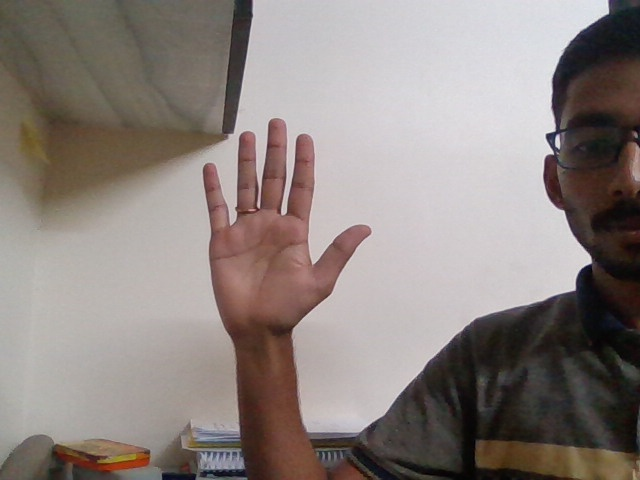Hello: (182, 104, 387, 363)
